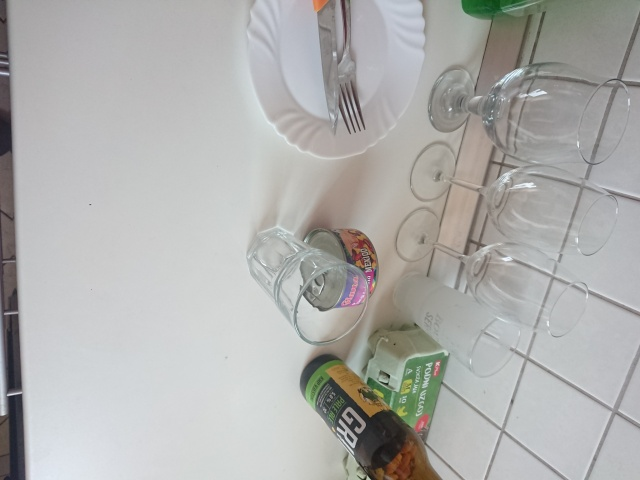Giana Tuna Salad Mexico 185g: (295, 226, 381, 314)
